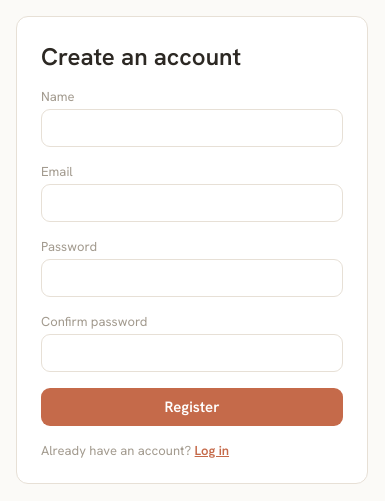
it: RegisterPage › registers and shows the check-your-email screen
The width and height of the screenshot is (385, 501).
Step 1. Type "Ada" into the field labelled "Name" → point(192, 128), box x1=41 y1=109 x2=343 y2=147
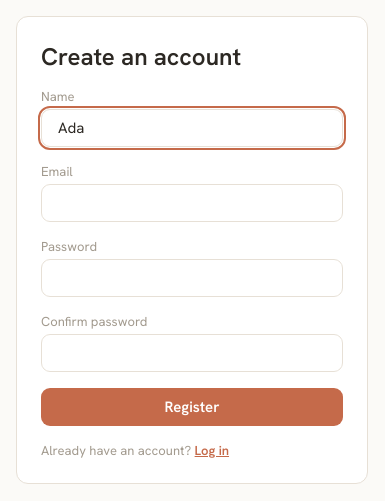
Step 2. Type "ada@example.com" into the field labelled "Email" → point(192, 203), box x1=41 y1=184 x2=343 y2=222
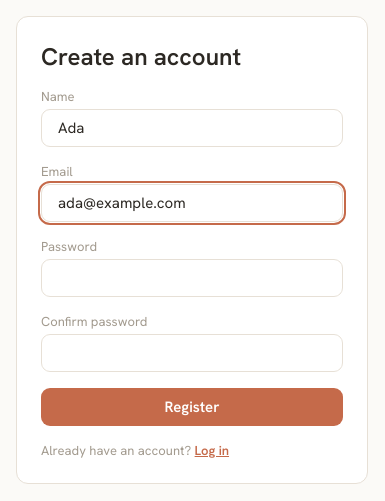
Step 3. Type "secret" into the password field labelled "Password" → point(192, 278), box x1=41 y1=259 x2=343 y2=297
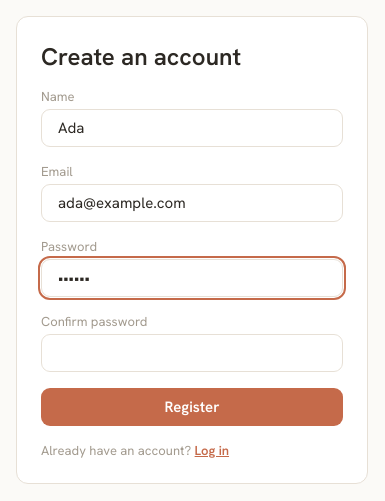
Step 4. Type "secret" into the password field labelled "Confirm password" → point(192, 353), box x1=41 y1=334 x2=343 y2=372
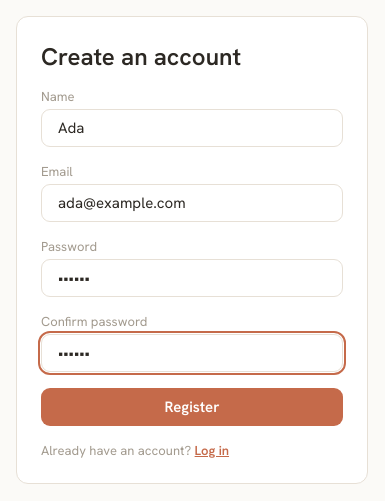
Step 5. Click the button "Register" → point(192, 407), box x1=41 y1=388 x2=343 y2=426
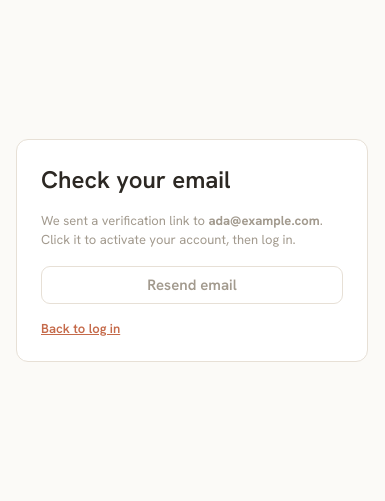
Now the heading "Check your email" is shown, box x1=41 y1=164 x2=231 y2=194
Now the text "ada@example.com" is shown, box x1=208 y1=212 x2=320 y2=228
